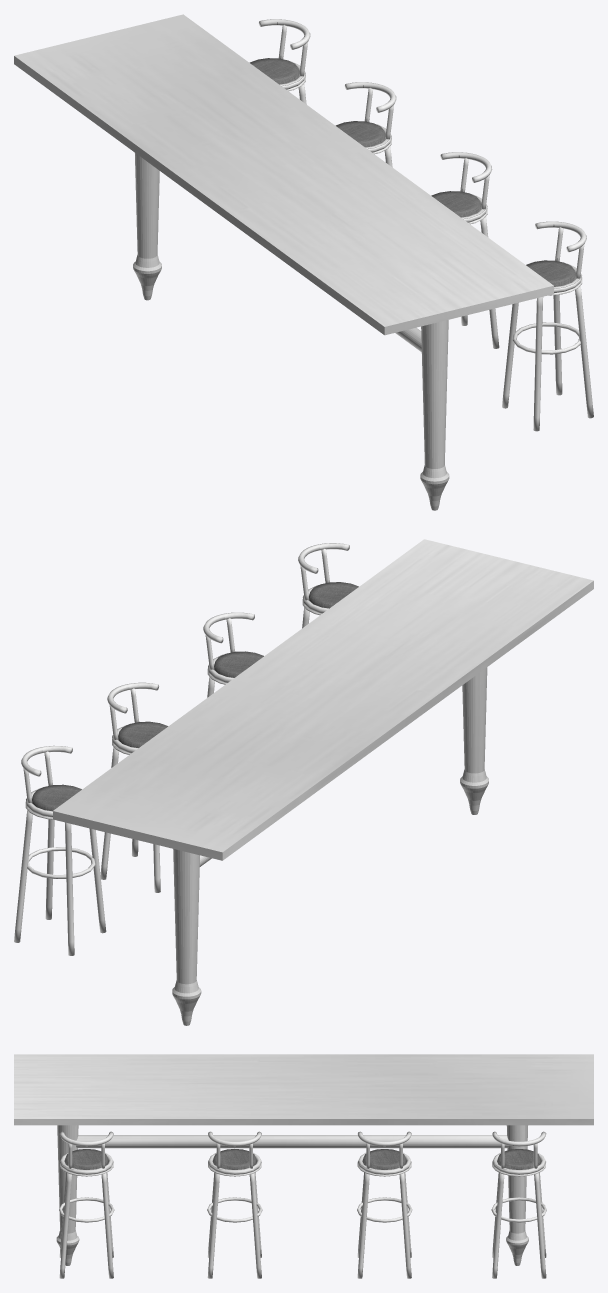
File: sillas_mesas_altas.fbx
The picture shows the model from 3 angles, top to bottom: view 1: azimuth 30°, elevation 25°; view 2: azimuth 150°, elevation 25°; view 3: azimuth 270°, elevation 25°; orthographic projection. The views are drawn at different scales.
Parts seen in each view (by area): view 1: Torus001.003; view 2: Torus001.003; view 3: Torus001.003.
Boxes of the visible parts, <box> form: Torus001.003: <box>14,14,593,510</box>; Torus001.003: <box>14,539,593,1025</box>; Torus001.003: <box>14,1054,593,1278</box>.
Bounding box in the file's own units: 1518 × 1389 × 3991.
Materials: 5 (5 with a texture image).
